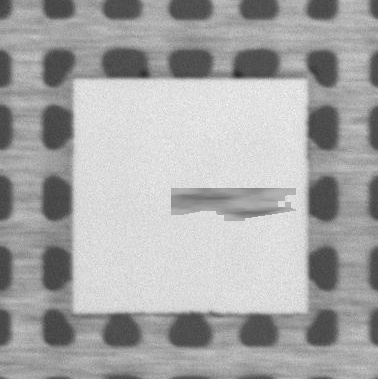DIE_INK: (171, 188, 295, 222)
